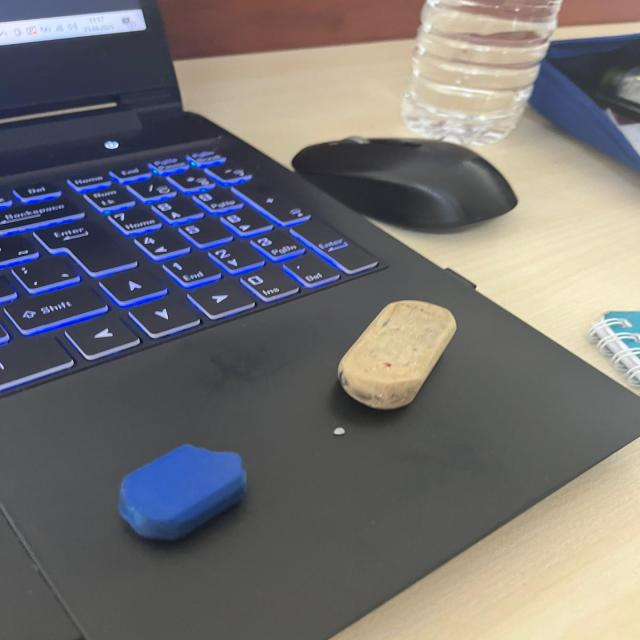eraser: (334, 290, 479, 426), (108, 440, 264, 548)
